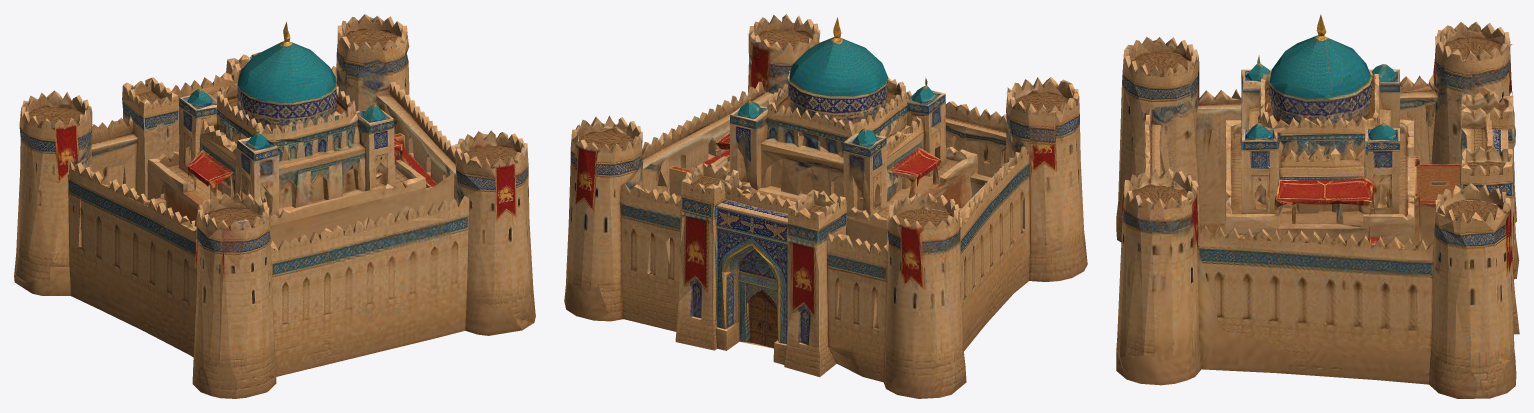
The model's file is keep_iran.glb.
3 renders of one model, left to right at view 1: azimuth 30°, elevation 25°; view 2: azimuth 150°, elevation 25°; view 3: azimuth 270°, elevation 25°, orthographic. The views are drawn at different scales.
Visible parts, largest first — view 1: FaceMinusZ; view 2: FaceMinusZ; view 3: FaceMinusZ.
Boxes of the visible parts, bbox=[...] form: FaceMinusZ: bbox=[14, 14, 535, 398]; FaceMinusZ: bbox=[564, 14, 1087, 398]; FaceMinusZ: bbox=[1116, 14, 1519, 398].
Size of the model in its own units: 1.9 by 1.27 by 1.62.
1 material, 1 textured.
